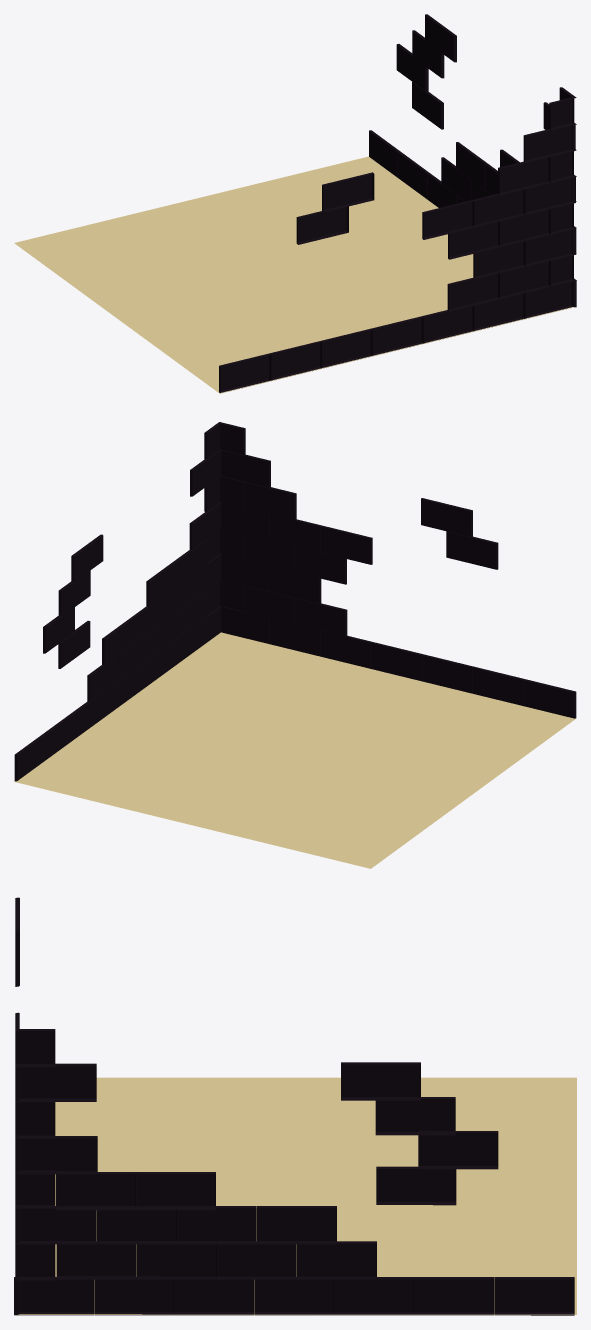
The model's file is corner_top_left_brick.FBX.
3 renders of one model, top to bottom at view 1: azimuth 30°, elevation 25°; view 2: azimuth 150°, elevation 25°; view 3: azimuth 270°, elevation 25°, orthographic. The views are drawn at different scales.
Parts seen in each view (by area): view 1: Box001, Brick027, Brick030, Brick026, Brick006, Brick017, Brick023, Brick003, Brick020, Brick007, Brick004, Brick002 (+22 smaller); view 2: Box001, Brick007, Brick026, Brick003, Brick030, Brick027, Brick029, Brick017, Brick005, Brick006, Brick004, Brick025 (+36 smaller); view 3: Box001, Brick044, Brick008, Brick009, Brick010, Brick011, Brick013, Brick012, Brick038, Brick045, Brick046, Brick043 (+16 smaller).
Part boxes in pixels (x1,y1,x2,y2): Box001: (14, 156, 573, 393); Brick027: (296, 205, 348, 244); Brick030: (322, 172, 374, 212); Brick026: (422, 200, 474, 239); Brick006: (320, 328, 372, 368); Brick017: (447, 271, 499, 311); Brick023: (448, 219, 499, 259); Brick003: (371, 316, 423, 355); Brick020: (473, 239, 525, 279); Brick007: (219, 353, 270, 393); Brick004: (422, 304, 474, 343); Brick002: (473, 291, 525, 330); Box001: (14, 632, 576, 868); Brick007: (524, 679, 576, 718); Brick026: (320, 525, 372, 564); Brick003: (371, 642, 422, 681); Brick030: (421, 498, 472, 537); Brick027: (446, 531, 498, 569); Brick029: (244, 482, 296, 520); Brick017: (295, 598, 347, 636); Brick005: (473, 666, 524, 706); Brick006: (422, 654, 473, 693); Brick004: (320, 630, 371, 668); Brick025: (269, 514, 321, 552); Box001: (18, 1077, 576, 1314); Brick044: (376, 1166, 456, 1205); Brick008: (494, 1277, 574, 1315); Brick009: (414, 1277, 494, 1315); Brick010: (334, 1277, 414, 1315); Brick011: (254, 1277, 334, 1315); Brick013: (94, 1277, 174, 1315); Brick012: (174, 1277, 253, 1315); Brick038: (257, 1206, 336, 1244); Brick045: (375, 1097, 455, 1135); Brick046: (341, 1062, 420, 1100); Brick043: (418, 1130, 498, 1169).
Size of the model in its own units: 60.14 by 60.13 by 33.66.
